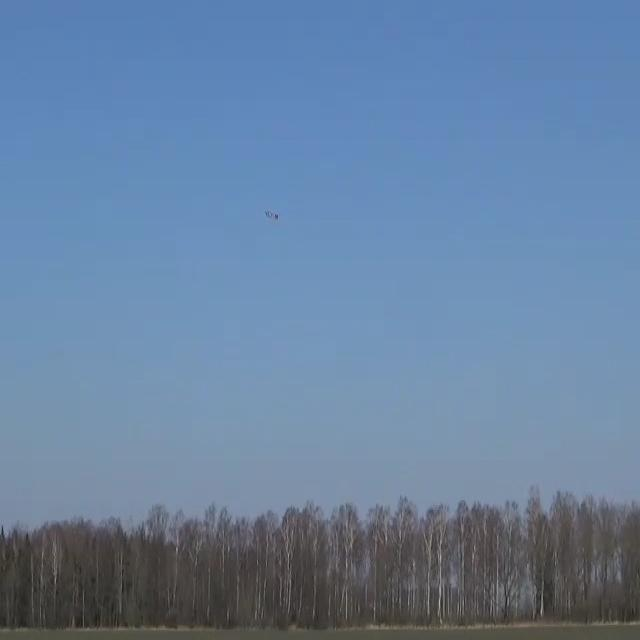drone: (264, 209, 278, 220)
